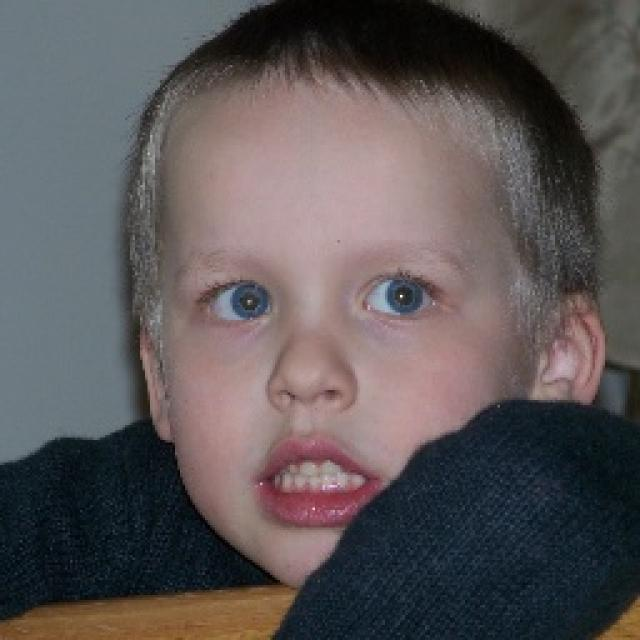earlobe: (534, 292, 608, 418), (133, 315, 176, 446)
